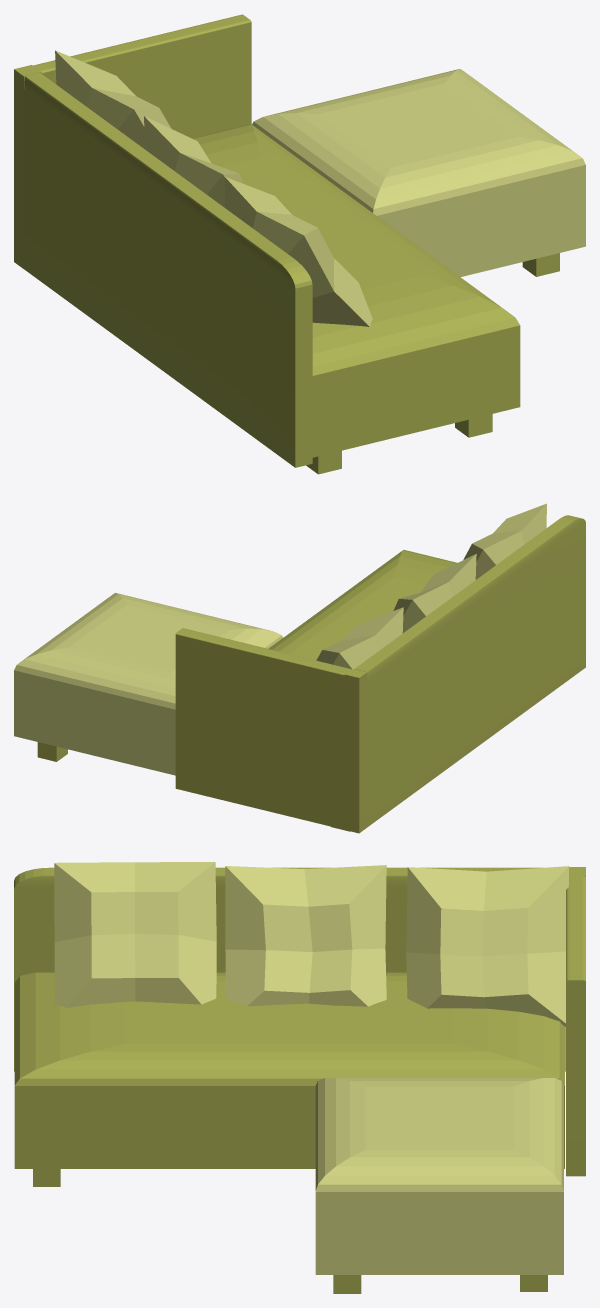
The model's file is kanapa_by_szymon.fbx.
3 views of the same model, one above another, from view 1: azimuth 30°, elevation 25°; view 2: azimuth 150°, elevation 25°; view 3: azimuth 270°, elevation 25° (orthographic). The views are drawn at different scales.
Parts seen in each view (by area): view 1: Kostka.008; view 2: Kostka.008; view 3: Kostka.008.
Part boxes in pixels (left/top/right/bottom): Kostka.008: left=14, top=14, right=585, bottom=474; Kostka.008: left=14, top=503, right=585, bottom=833; Kostka.008: left=14, top=862, right=585, bottom=1293.
Size of the model in its own units: 4.76 by 2.42 by 5.29.
